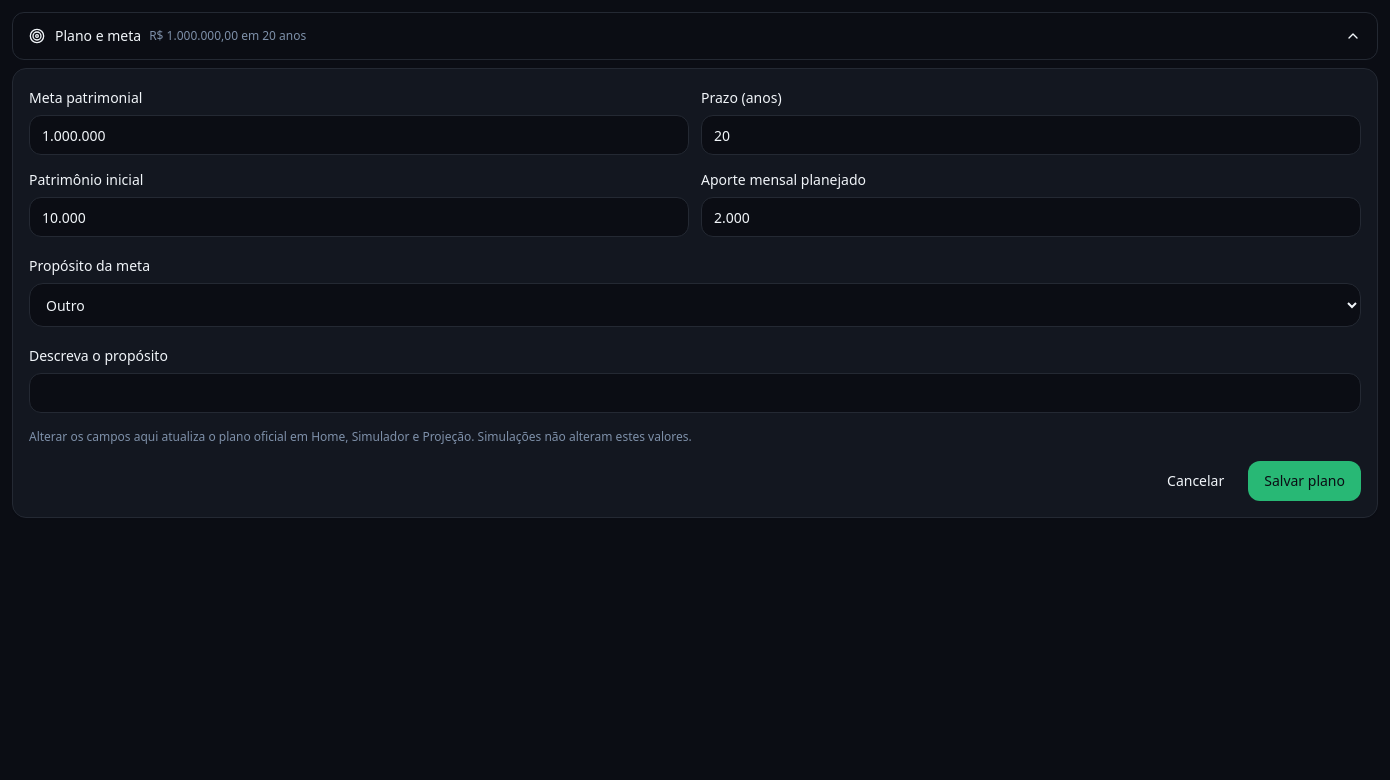
Test case: PlanSettingsSection › exige texto quando propósito='outro'
expect the field labelled "Descreva o propósito" is shown: met, box [29,373,1361,413]
Click the button "Salvar plano" at (1305, 481), box [1248,461,1361,501]
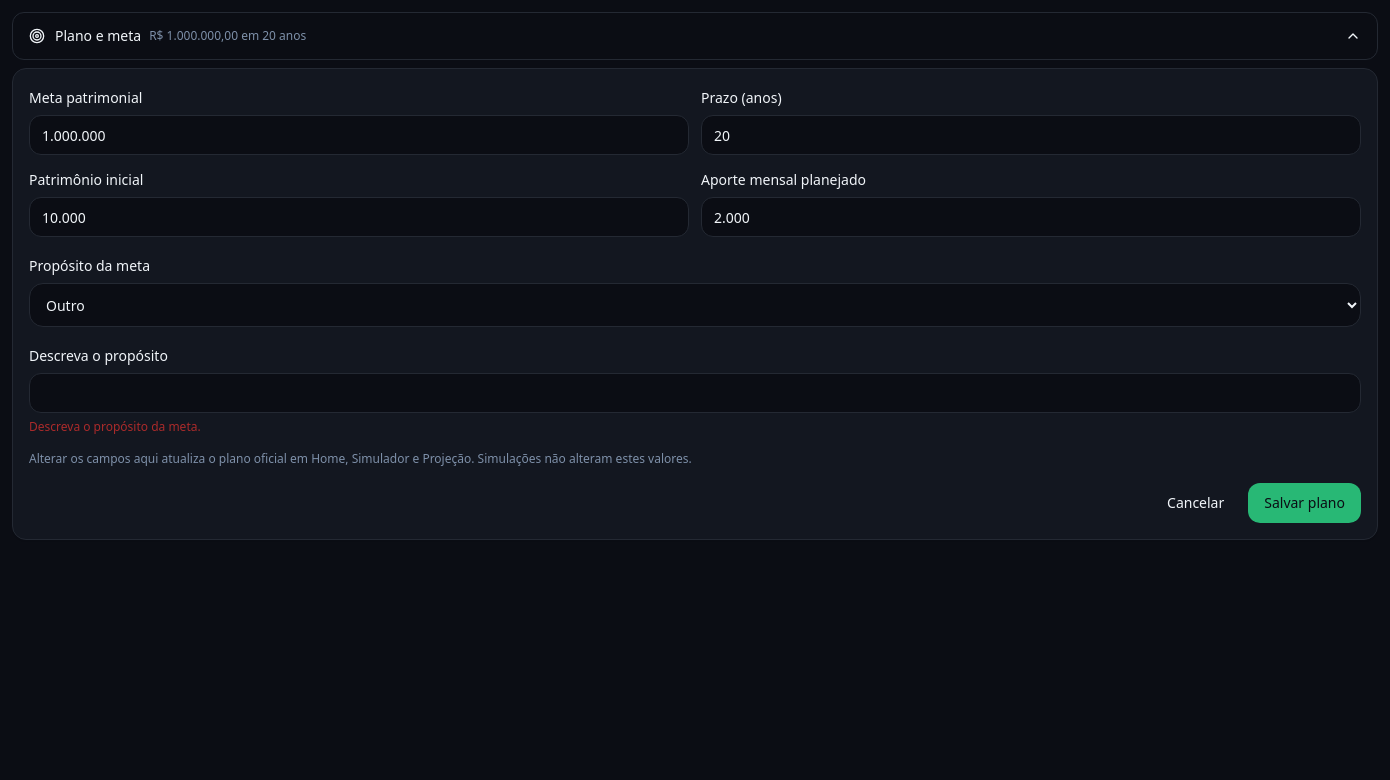
expect the text "Descreva o propósito da meta." is shown: met, box [29,418,201,435]
